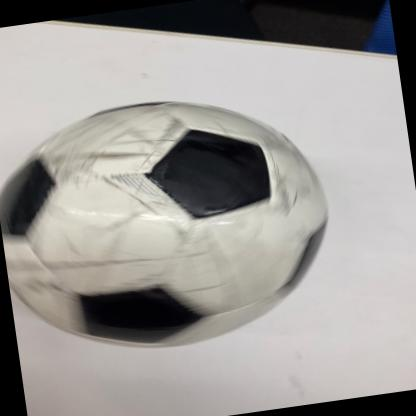ball: (0, 81, 332, 373)
